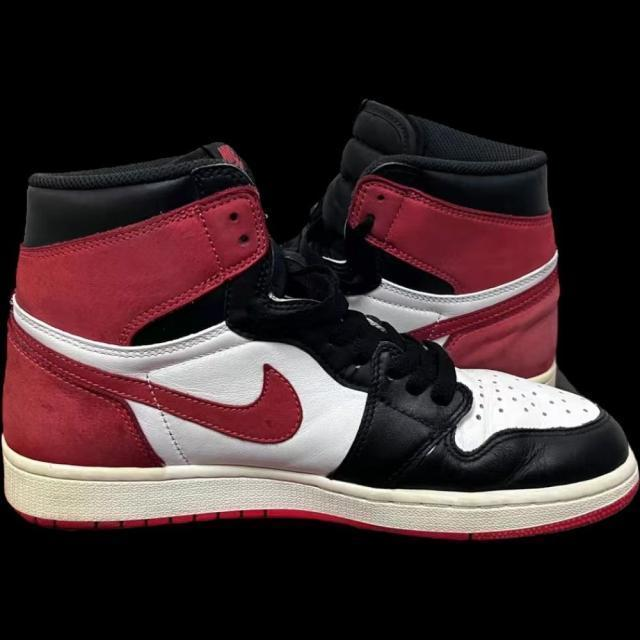nike original jordan 1: (0, 138, 640, 540), (289, 82, 586, 377)
